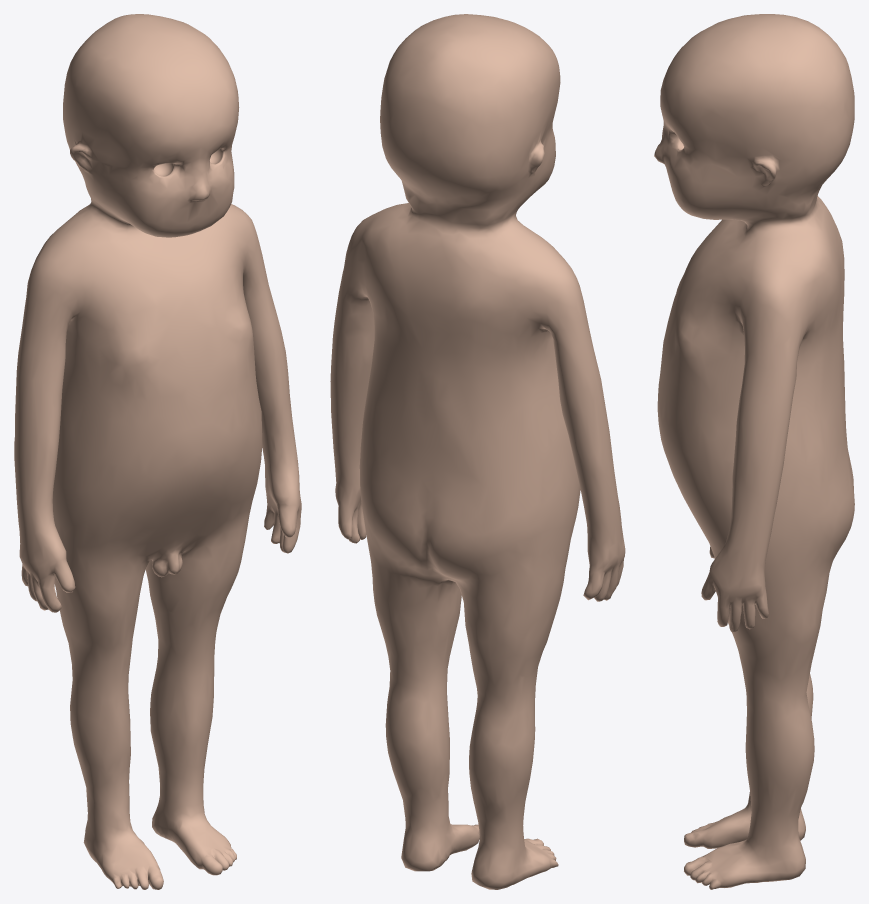
The model's file is pediatric_infant_male.surface.LOD1.glb.
3 renders of one model, left to right at view 1: azimuth 30°, elevation 25°; view 2: azimuth 150°, elevation 25°; view 3: azimuth 270°, elevation 25°, orthographic. The views are drawn at different scales.
Parts seen in each view (by area): view 1: PEDIATRIC.INFANT.MALE.SURFACE.SKIN; view 2: PEDIATRIC.INFANT.MALE.SURFACE.SKIN; view 3: PEDIATRIC.INFANT.MALE.SURFACE.SKIN.
Boxes of the visible parts, <box> form: PEDIATRIC.INFANT.MALE.SURFACE.SKIN: <box>14,14,301,889</box>; PEDIATRIC.INFANT.MALE.SURFACE.SKIN: <box>330,14,625,889</box>; PEDIATRIC.INFANT.MALE.SURFACE.SKIN: <box>654,14,854,889</box>.
Bounding box in the file's own units: 0.2611 × 0.7602 × 0.1654.
